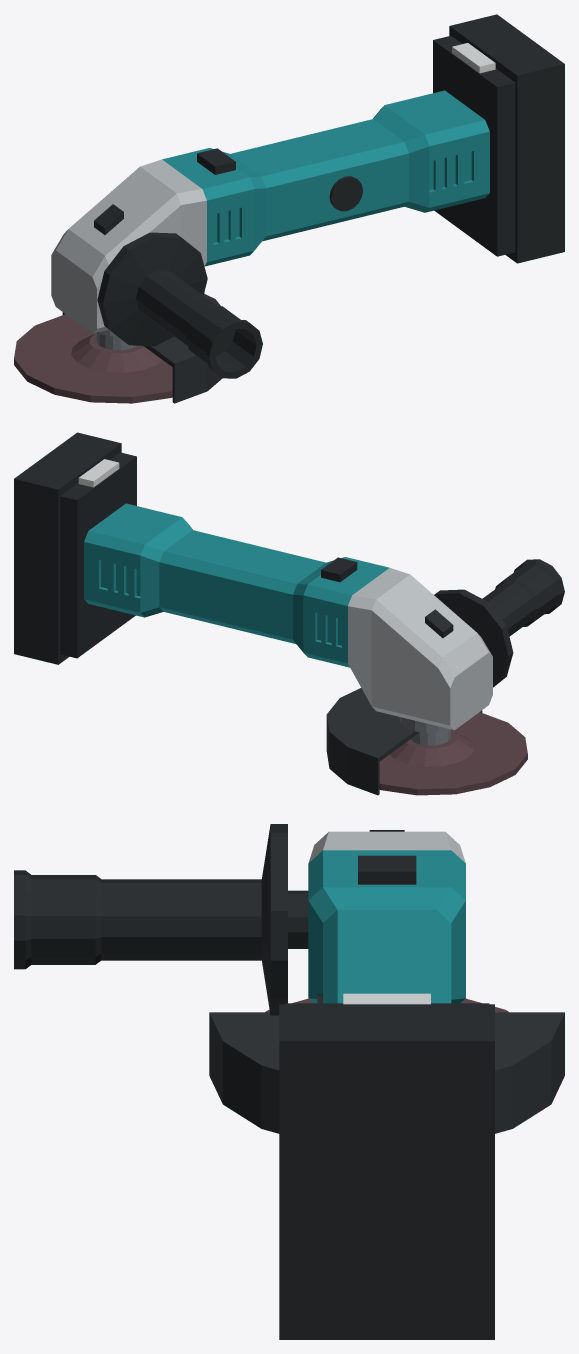
The picture shows the model from 3 angles, top to bottom: view 1: azimuth 30°, elevation 25°; view 2: azimuth 150°, elevation 25°; view 3: azimuth 270°, elevation 25°; orthographic projection. The views are drawn at different scales.
Parts seen in each view (by area): view 1: 06_Motor_barrel_with_front_and_rear_vent_recesses, 12_Hollow_end_auxiliary_side_handle, 08_3Ah_style_battery_pack, 05_Cast_right_angle_gear_head, 01_Depressed_center_115mm_grinding_wheel, 07_Battery_mount_tower, 04_Partial_wheel_guard_with_integral_top_attachment, 13_Round_brush_service_cover, 09_Battery_release_latch, 10_Slide_switch, 11_Spindle_lock_button; view 2: 06_Motor_barrel_with_front_and_rear_vent_recesses, 05_Cast_right_angle_gear_head, 08_3Ah_style_battery_pack, 01_Depressed_center_115mm_grinding_wheel, 07_Battery_mount_tower, 12_Hollow_end_auxiliary_side_handle, 04_Partial_wheel_guard_with_integral_top_attachment, 09_Battery_release_latch, 10_Slide_switch, 11_Spindle_lock_button, 02_Wheel_flange_and_spindle; view 3: 08_3Ah_style_battery_pack, 12_Hollow_end_auxiliary_side_handle, 06_Motor_barrel_with_front_and_rear_vent_recesses, 04_Partial_wheel_guard_with_integral_top_attachment, 05_Cast_right_angle_gear_head, 10_Slide_switch, 09_Battery_release_latch.
Part boxes in pixels (box(x1,y1,x2,y2)): 06_Motor_barrel_with_front_and_rear_vent_recesses: box(162, 90, 489, 266); 12_Hollow_end_auxiliary_side_handle: box(97, 232, 262, 378); 08_3Ah_style_battery_pack: box(449, 14, 564, 263); 05_Cast_right_angle_gear_head: box(51, 159, 206, 333); 01_Depressed_center_115mm_grinding_wheel: box(14, 314, 172, 403); 07_Battery_mount_tower: box(433, 35, 515, 256); 04_Partial_wheel_guard_with_integral_top_attachment: box(62, 293, 222, 403); 13_Round_brush_service_cover: box(329, 176, 362, 211); 09_Battery_release_latch: box(452, 43, 495, 73); 10_Slide_switch: box(197, 148, 235, 174); 11_Spindle_lock_button: box(94, 204, 123, 234); 06_Motor_barrel_with_front_and_rear_vent_recesses: box(84, 503, 389, 667); 05_Cast_right_angle_gear_head: box(348, 568, 492, 730); 08_3Ah_style_battery_pack: box(14, 432, 121, 664); 01_Depressed_center_115mm_grinding_wheel: box(379, 712, 527, 795); 07_Battery_mount_tower: box(60, 452, 136, 658); 12_Hollow_end_auxiliary_side_handle: box(434, 559, 564, 687); 04_Partial_wheel_guard_with_integral_top_attachment: box(326, 688, 482, 795); 09_Battery_release_latch: box(78, 459, 119, 487); 10_Slide_switch: box(321, 557, 357, 582); 11_Spindle_lock_button: box(425, 609, 453, 638); 02_Wheel_flange_and_spindle: box(410, 730, 450, 745); 08_3Ah_style_battery_pack: box(279, 1004, 494, 1339); 12_Hollow_end_auxiliary_side_handle: box(14, 824, 308, 1015); 06_Motor_barrel_with_front_and_rear_vent_recesses: box(308, 850, 465, 1003); 04_Partial_wheel_guard_with_integral_top_attachment: box(209, 1012, 564, 1133); 05_Cast_right_angle_gear_head: box(308, 831, 465, 862); 10_Slide_switch: box(358, 855, 416, 884); 09_Battery_release_latch: box(343, 993, 430, 1004).
Bounding box in the file's own units: 0.317 × 0.134 × 0.189.
